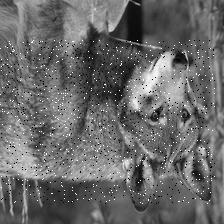WOLF: (0, 40, 215, 204)
